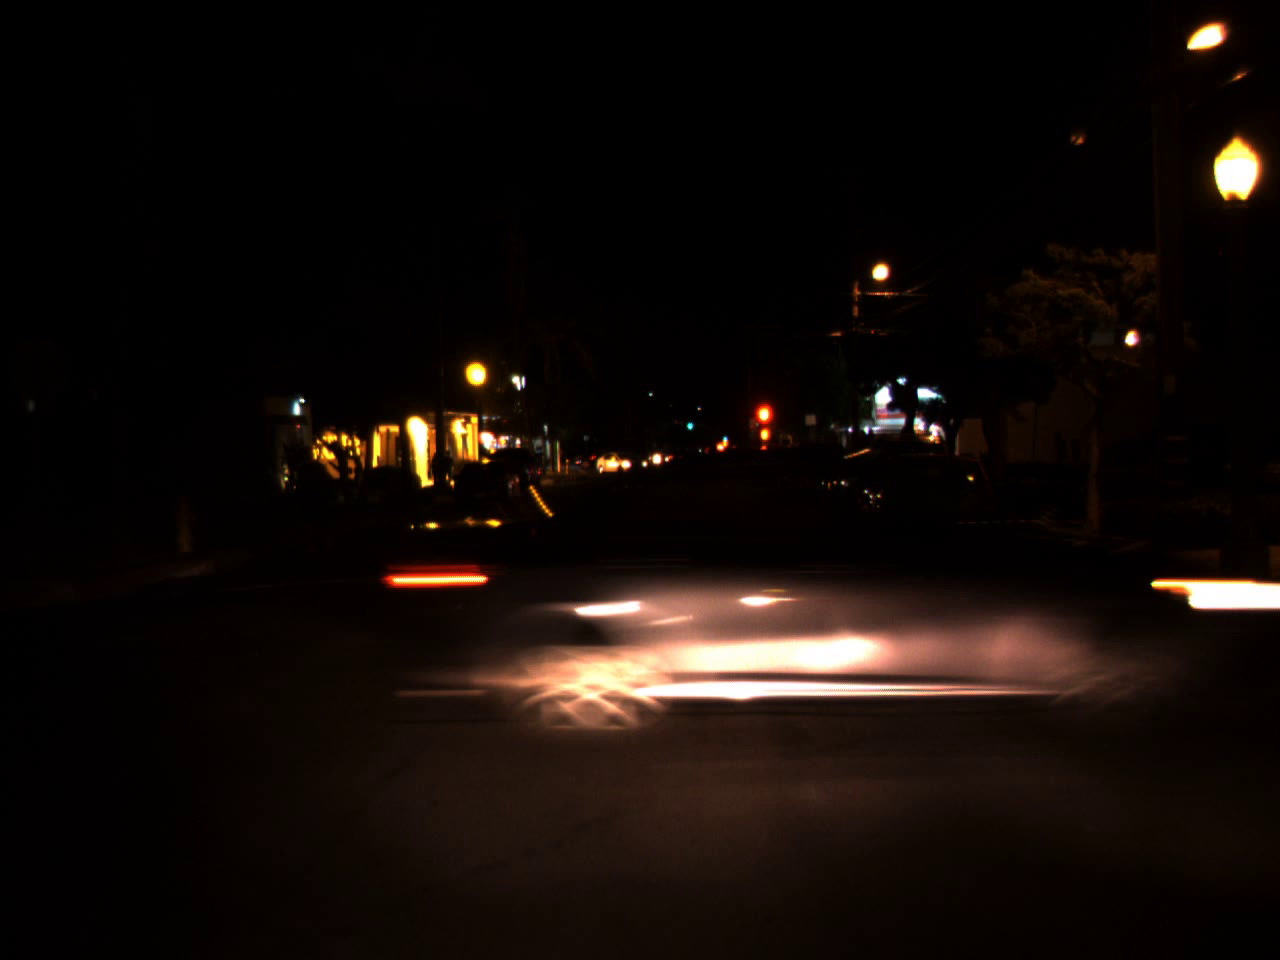go: (685, 416, 694, 431), (721, 430, 728, 442)
stop: (752, 400, 776, 451)
